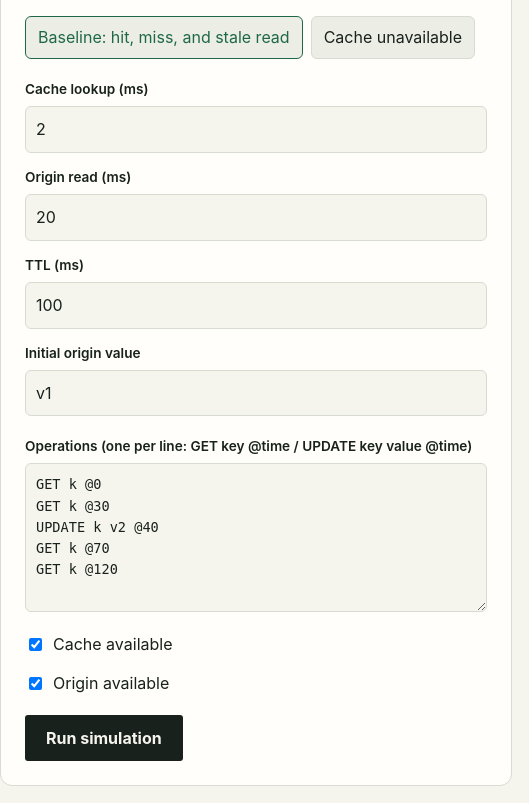
Test: Cache-aside playground › preserves the descriptor seed and prevents preset changes during a pending run
This screenshot has width=529, height=803.
(page scrolled)
Click the button "Run simulation" at (104, 738), box [25,715,183,761]
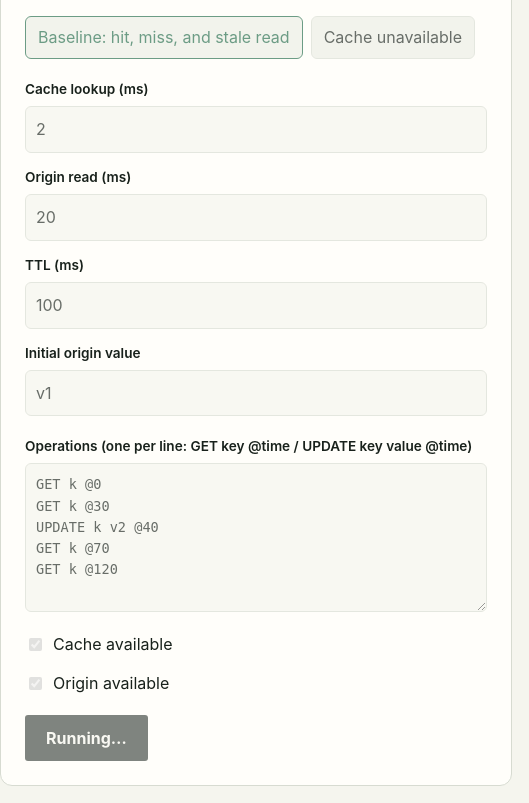
Expected: the number field labelled "TTL (ms)" is disabled, [25,282,487,328]
Expected: the button "Baseline: hit, miss, and stale read" is disabled, [25,16,303,59]
Expected: the button "Cache unavailable" is disabled, [311,16,475,59]
